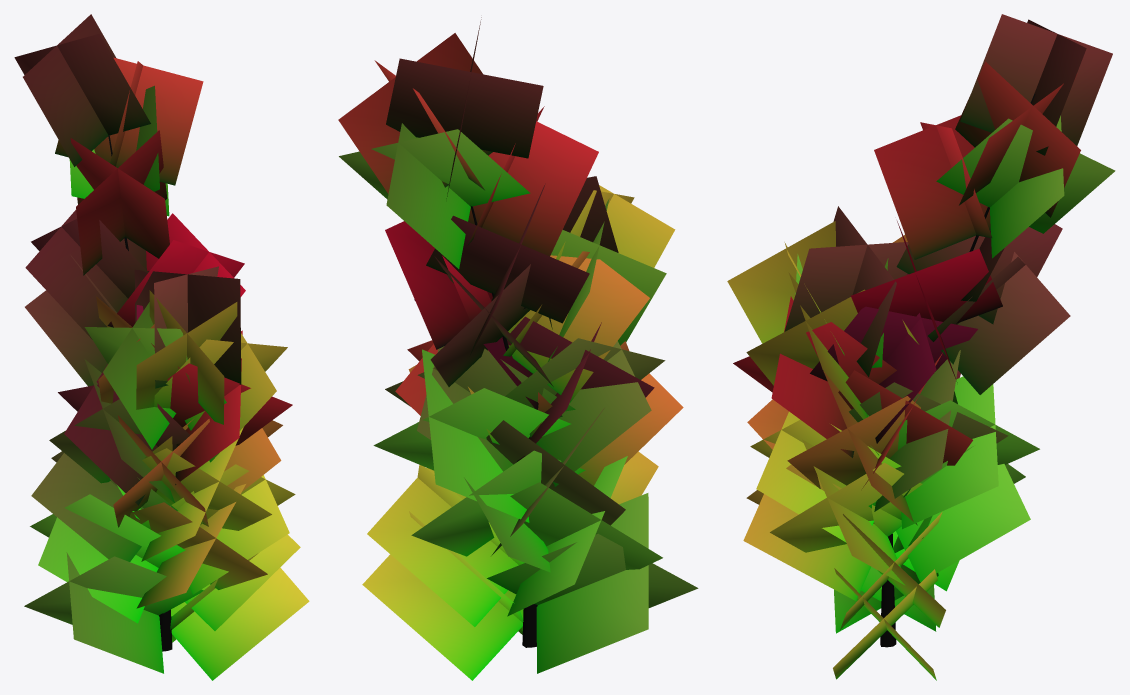
File: Tree_11.fbx
3 renders of one model, left to right at view 1: azimuth 30°, elevation 25°; view 2: azimuth 150°, elevation 25°; view 3: azimuth 270°, elevation 25°, orthographic. The views are drawn at different scales.
Parts seen in each view (by area): view 1: Tree_11; view 2: Tree_11; view 3: Tree_11.
Boxes of the visible parts, x1,y1,x2,y2 form: Tree_11: (14, 14, 309, 680); Tree_11: (338, 17, 698, 680); Tree_11: (727, 14, 1115, 680).
Bounding box in the file's own units: 451 × 1065 × 580.
